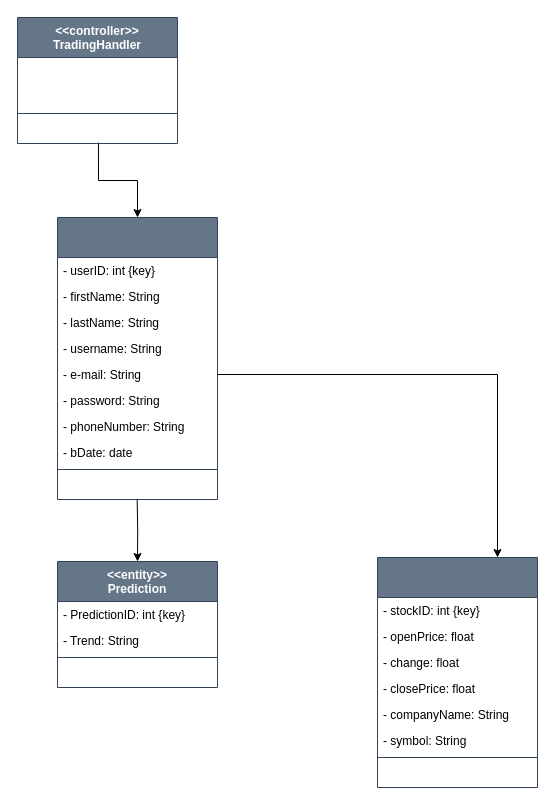
The diagram is 555 pixels wide and 808 high, and some of its shapes have lost their labels. Each missing label, with the box of its shape:
<<entity>> Stock: (376, 556, 538, 788)
<<entity>> User: (56, 216, 218, 500)
